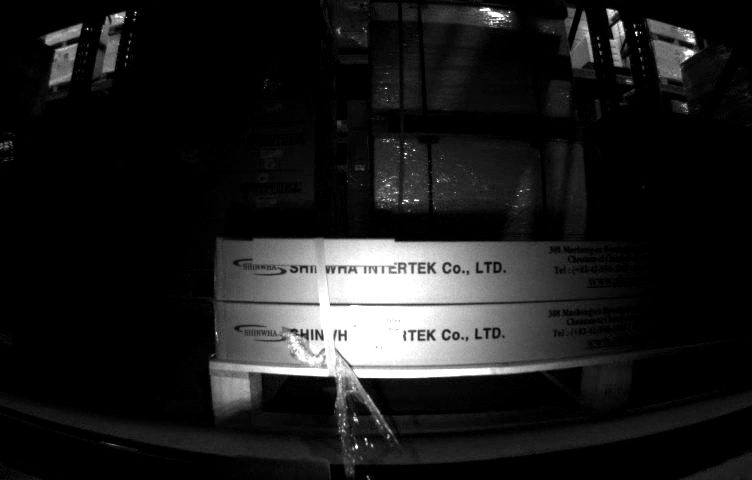True Barcode: (349, 305, 405, 361)
